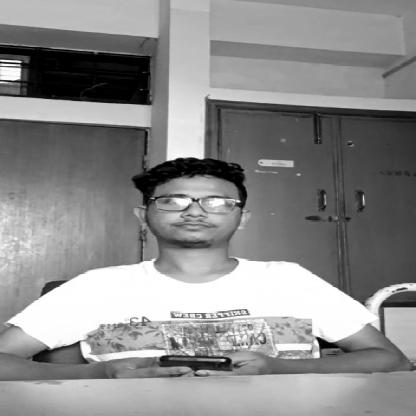Normal: (133, 171, 248, 250), (124, 337, 281, 380)
